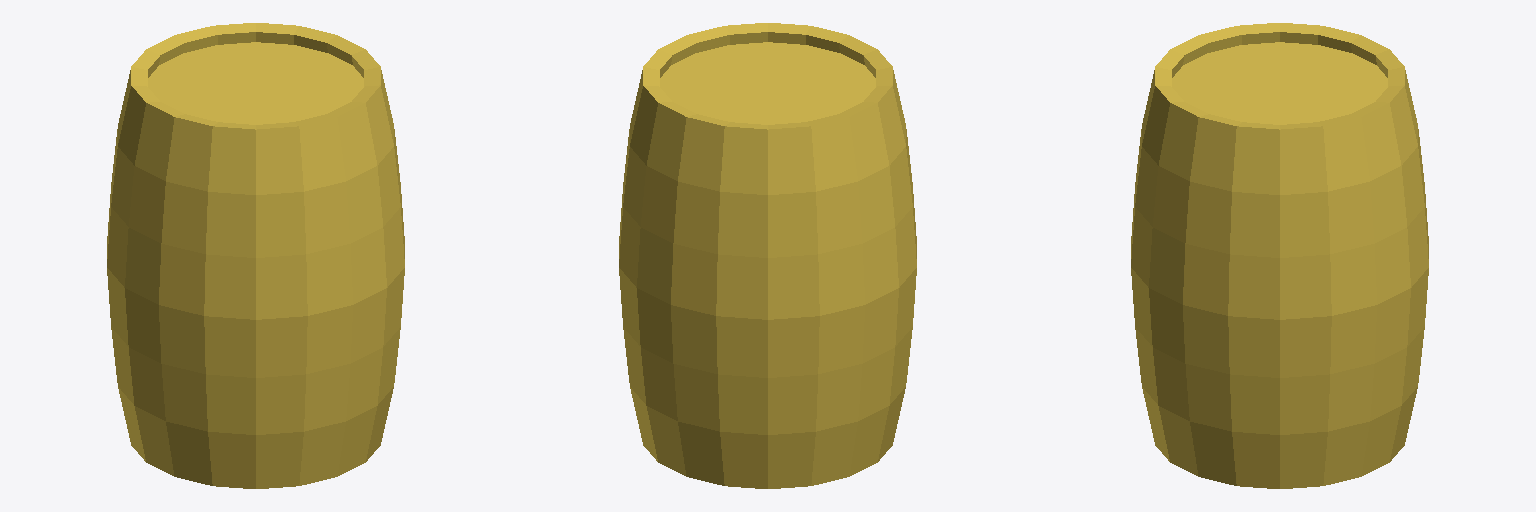
File: Barrel2.obj
3 renders of one model, left to right at view 1: azimuth 30°, elevation 25°; view 2: azimuth 150°, elevation 25°; view 3: azimuth 270°, elevation 25°, orthographic.
Parts seen in each view (by area): view 1: Barrel2; view 2: Barrel2; view 3: Barrel2.
Boxes of the visible parts, x1=… form: Barrel2: x1=107, y1=23, x2=404, y2=488; Barrel2: x1=619, y1=23, x2=916, y2=488; Barrel2: x1=1131, y1=23, x2=1428, y2=488.
Bounding box in the file's own units: 117 × 153 × 115.